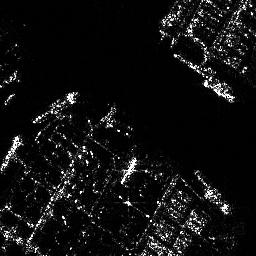ship: (192, 167, 231, 215), (32, 90, 81, 124), (203, 79, 236, 102)
